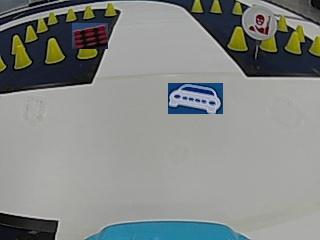evil: (241, 5, 275, 39)
